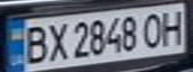2: (69, 17, 90, 60)
4: (106, 15, 124, 54)
8: (118, 12, 142, 52), (87, 16, 109, 56)
B: (18, 22, 51, 65)
H: (157, 7, 190, 46)
O: (139, 10, 169, 48)
X: (42, 20, 69, 63)
